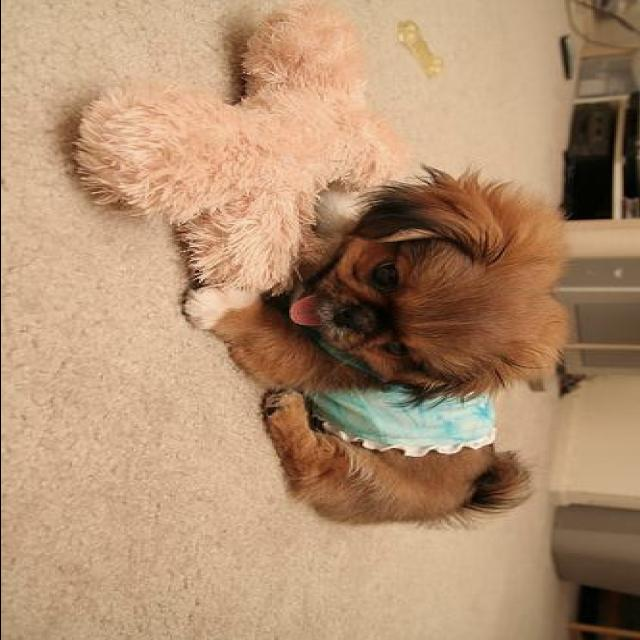pekinese: (182, 163, 574, 528)
